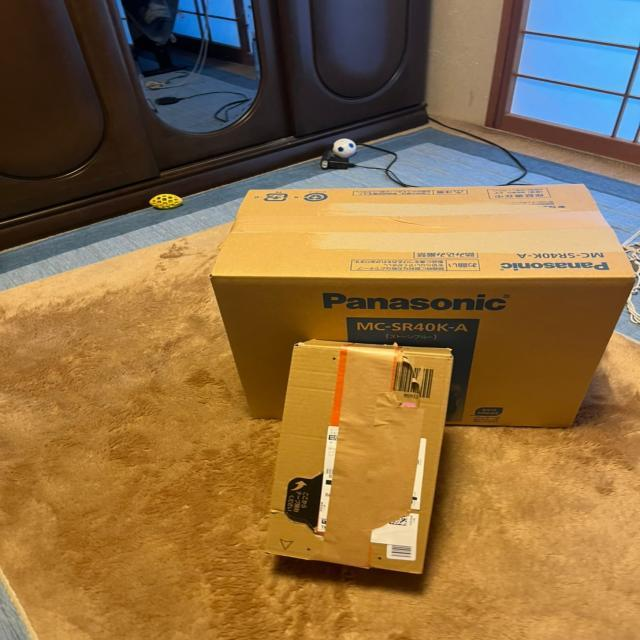box: (203, 180, 640, 433), (252, 334, 460, 586)
